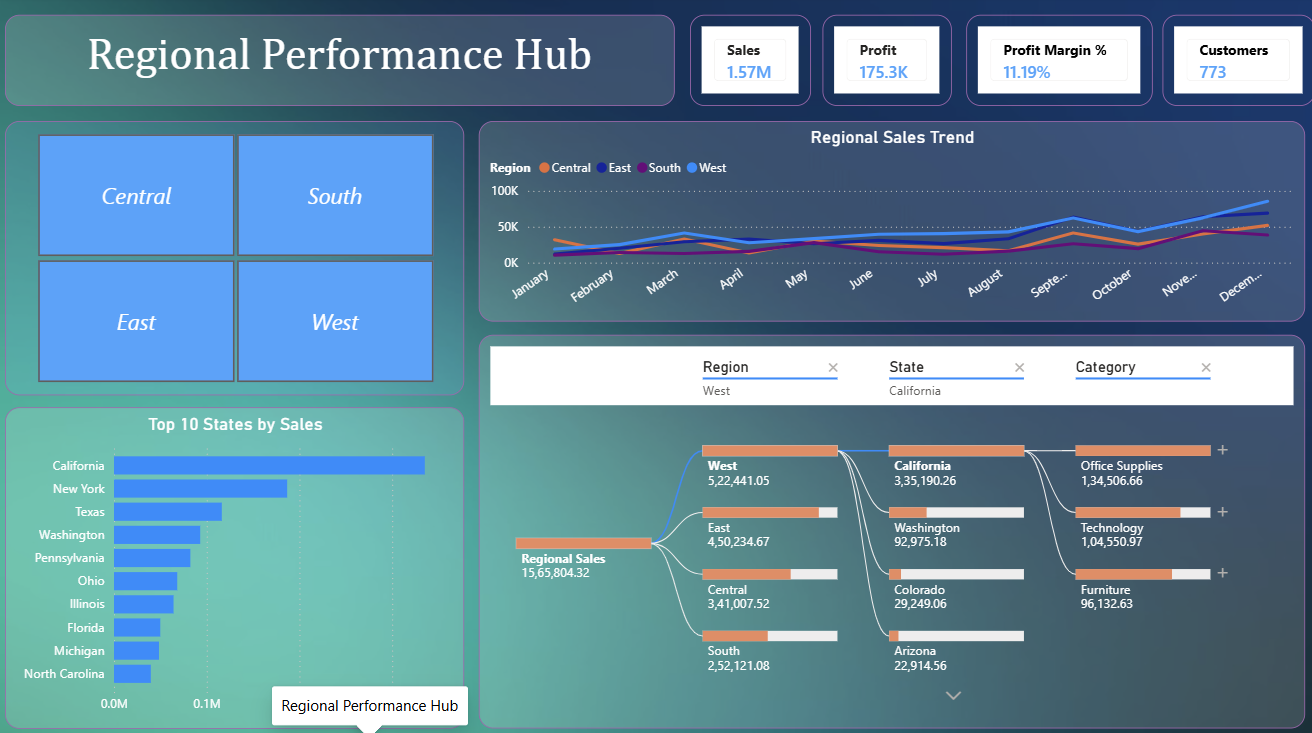

Layout of this report page (visuals, bound fields, positions):
{"tool":"powerbi","page":{"name":"Regional Performance Hub","canvas":[1280,720],"ordinal":1},"visuals":[{"type":"textbox","box":[9.6,17.8,646.3,87.8],"z":0},{"type":"cardVisual","fields":{"Data":[" Measures.Regional Sales"]},"box":[671,17.8,116.6,87.8],"z":1000},{"type":"cardVisual","fields":{"Data":["Sum(SuperStore_Sales_Dataset.Profit)"]},"box":[798.6,17.8,124.9,87.8],"z":2000},{"type":"cardVisual","fields":{"Data":[" Measures.Profit Margin %"]},"box":[937.2,17.8,179.8,87.8],"z":3000},{"type":"cardVisual","fields":{"Data":["Count(SuperStore_Sales_Dataset.Customer ID)"]},"box":[1126.6,17.8,146.8,87.8],"z":4000},{"type":"decompositionTreeVisual","fields":{"ExplainBy":["SuperStore_Sales_Dataset.Region","SuperStore_Sales_Dataset.State","SuperStore_Sales_Dataset.Category","SuperStore_Sales_Dataset.Sub-Category"],"Analyze":[" Measures.Regional Sales"]},"box":[466.6,326.6,797.3,380.1],"z":5000},{"type":"lineChart","title":"Regional Sales Trend","fields":{"Category":["SuperStore_Sales_Dataset.Order Date.Variation.Date Hierarchy.Month"],"Y":["Sum(SuperStore_Sales_Dataset.Sales)"],"Series":["SuperStore_Sales_Dataset.Region"]},"box":[466.6,120.8,797.3,193.5],"z":6000},{"type":"barChart","title":"Top 10 States by Sales","fields":{"Category":["SuperStore_Sales_Dataset.State"],"Y":["Sum(SuperStore_Sales_Dataset.Sales)"]},"box":[9.6,396.6,443.2,310.1],"z":7000},{"type":"slicer","fields":{"Values":["SuperStore_Sales_Dataset.Region"]},"box":[9.6,120.8,443.2,264.8],"z":8000}]}

Visuals, with their boxes in screenshot pixels (x1, y1, x2, y2), scaled from the page's 1280x720 canvas onto the 1312x733 screenshot:
textbox: bbox(10, 18, 672, 108)
cardVisual -  Measures.Regional Sales: bbox(688, 18, 807, 108)
cardVisual - Sum(SuperStore_Sales_Dataset.Profit): bbox(819, 18, 947, 108)
cardVisual -  Measures.Profit Margin %: bbox(961, 18, 1145, 108)
cardVisual - Count(SuperStore_Sales_Dataset.Customer ID): bbox(1155, 18, 1305, 108)
decompositionTreeVisual - SuperStore_Sales_Dataset.Region x SuperStore_Sales_Dataset.State: bbox(478, 332, 1295, 719)
"Regional Sales Trend" lineChart: bbox(478, 123, 1295, 320)
"Top 10 States by Sales" barChart: bbox(10, 404, 464, 719)
slicer - SuperStore_Sales_Dataset.Region: bbox(10, 123, 464, 393)
